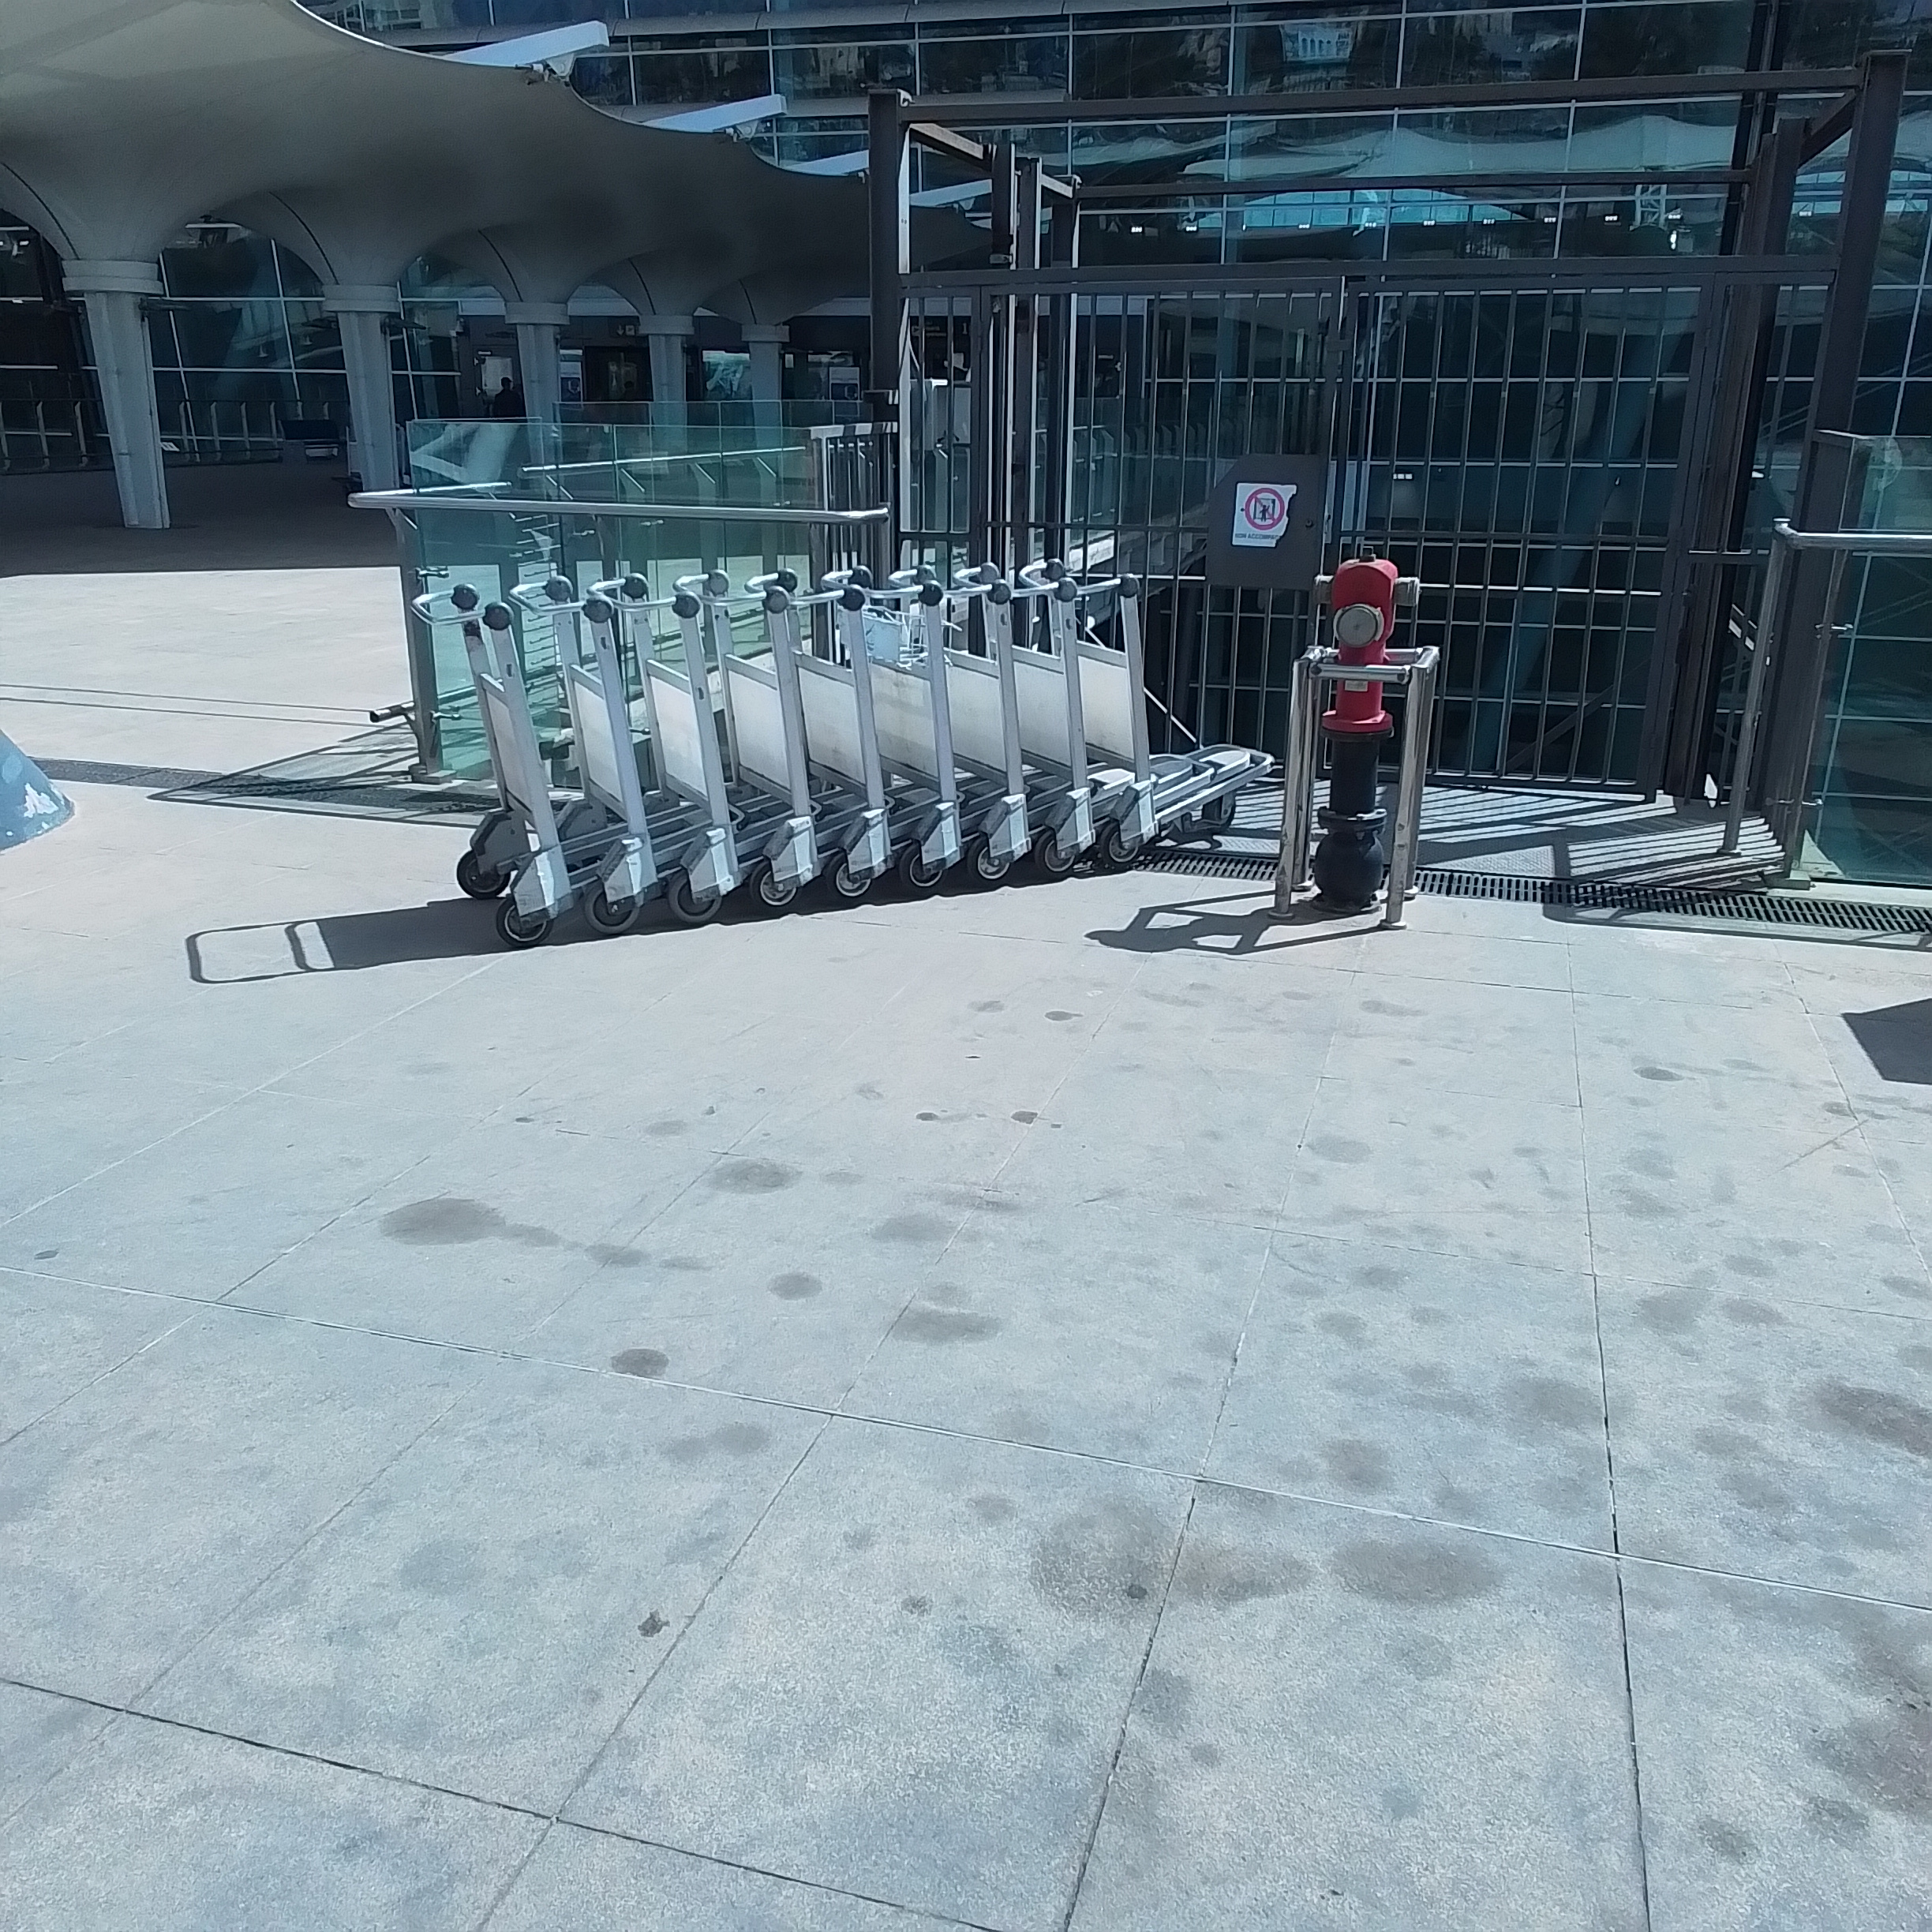airport-trolley: (1031, 524, 1270, 870), (402, 594, 571, 941), (501, 579, 656, 941), (803, 545, 959, 893), (669, 563, 812, 909), (729, 559, 874, 899), (594, 577, 734, 929), (973, 525, 1076, 899), (901, 533, 984, 904)
